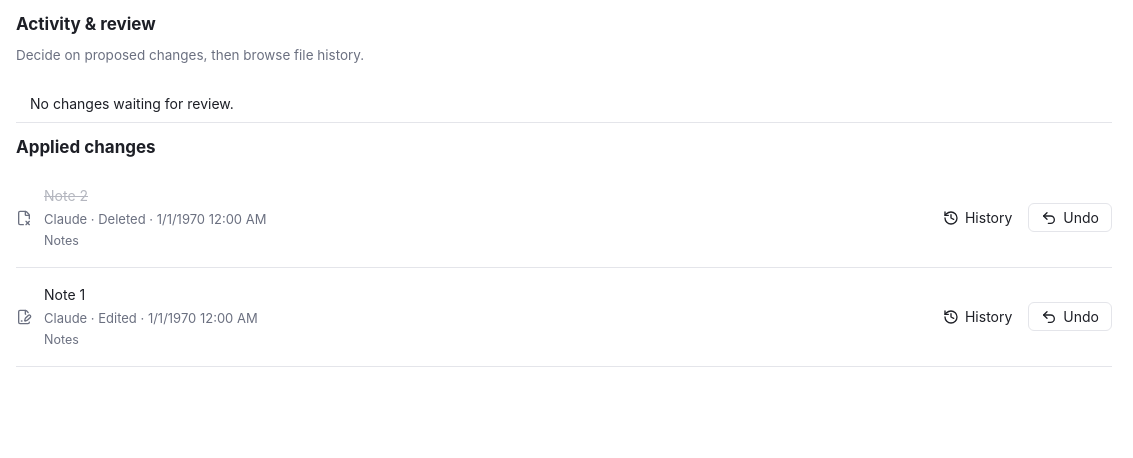
Test: serializes undo, announces conflicts and retains history as recovery
The width and height of the screenshot is (1133, 458).
Click the button "Undo" in the row of "Edited". click: (1070, 317)
box: x1=1028 y1=302 x2=1112 y2=331
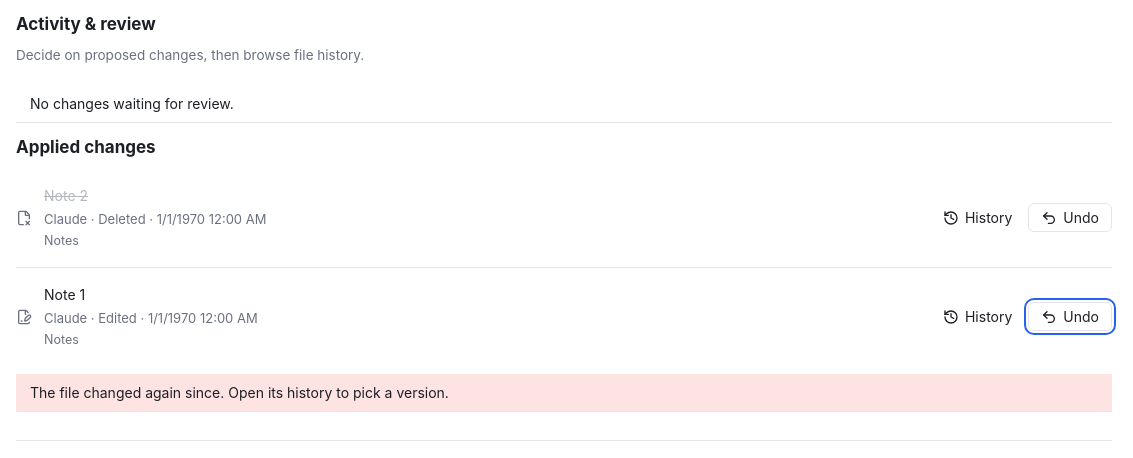
Expected: the message "The file changed again since. Open its history to pick a version." is shown, x1=16 y1=374 x2=1112 y2=412
Click the button with aria-label "File history". click: (978, 317)
box: x1=935 y1=304 x2=1020 y2=329
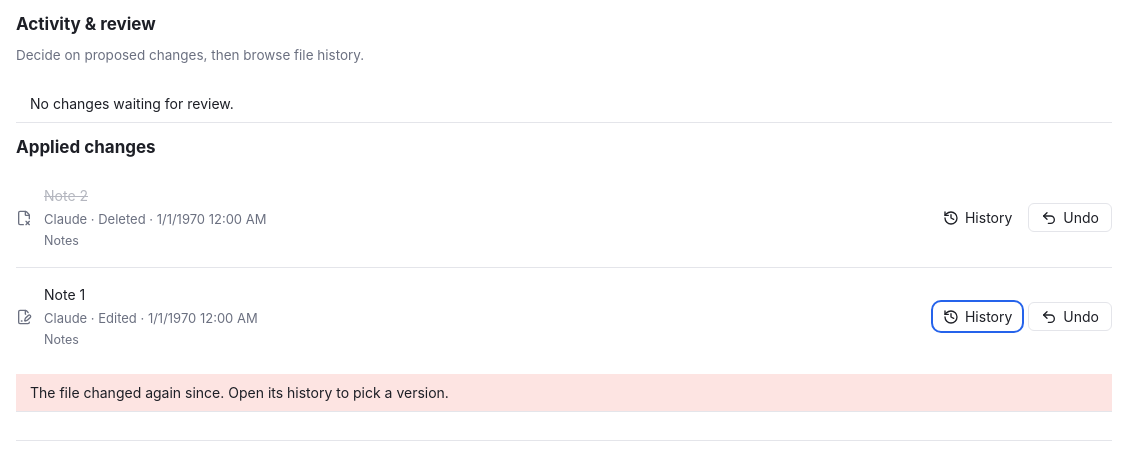
Click the button "Undo" in the row of "Edited". click: (1070, 317)
box: x1=1028 y1=302 x2=1112 y2=331
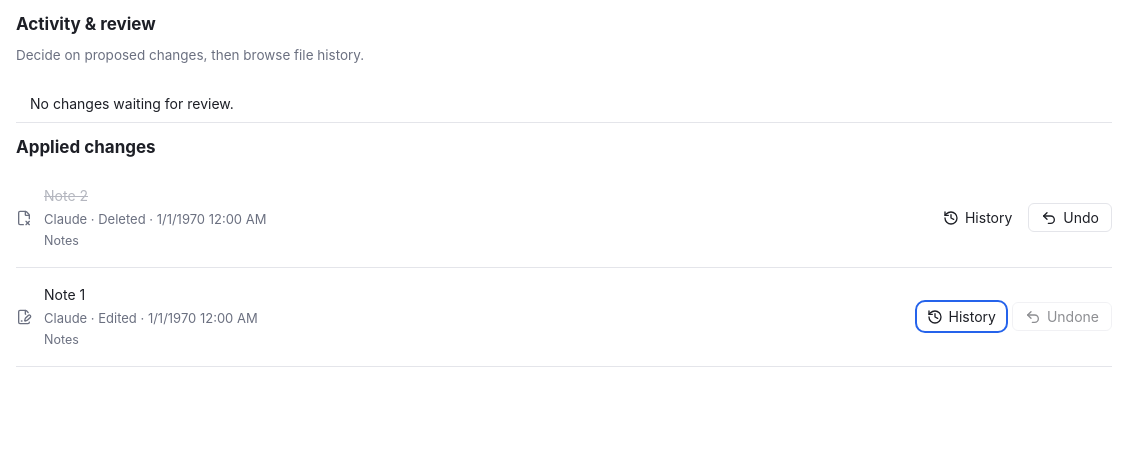
Expected: the button "Undone" is disabled, x1=1012 y1=302 x2=1112 y2=331
